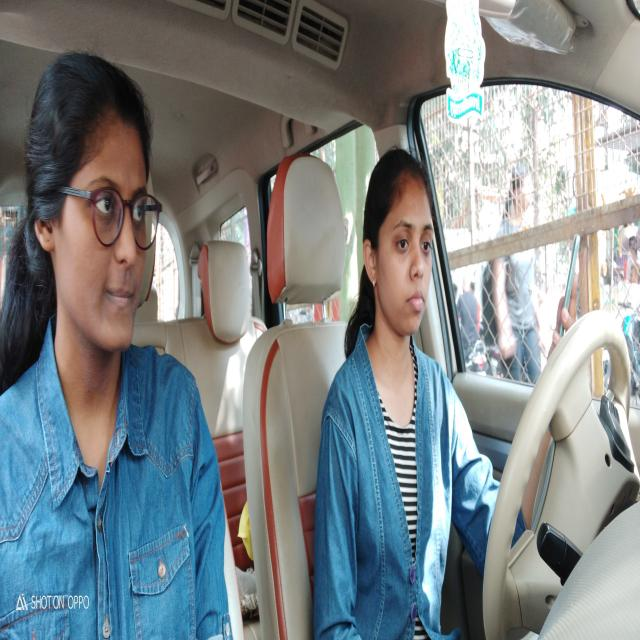mobile: (549, 222, 583, 368)
person: (26, 50, 162, 385), (360, 142, 437, 368)
